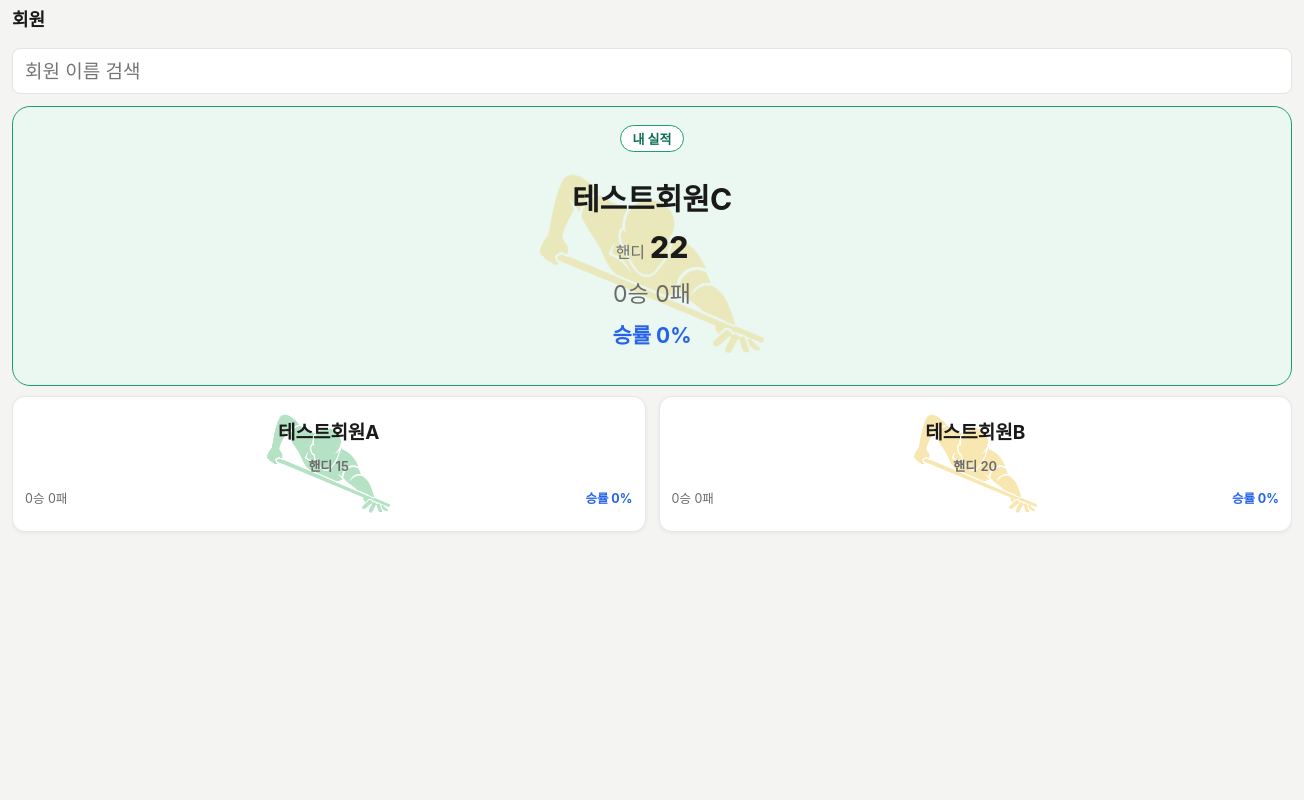
회원 상세 — 이력이 없는 회원(본인/타인 공통) › 본인이면서 이력이 없으면 기존 빈 상태 문구가 그대로 보인다
What coordinates should you click on to do the following:
click the element with class "member-hero"
I would click on:
 (652, 369)
Its box is [12, 106, 1292, 386].
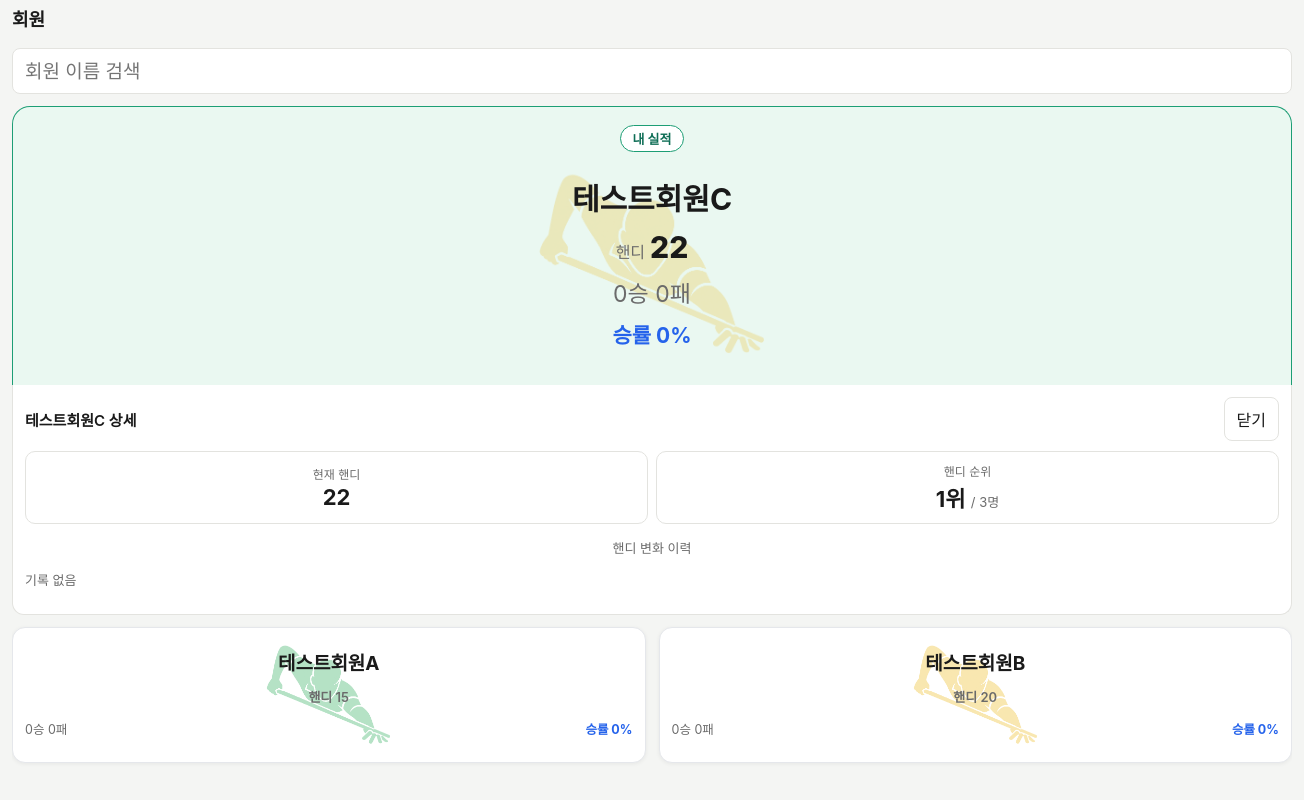
Result: the text "기록 없음" is shown at [25, 572, 76, 588]
